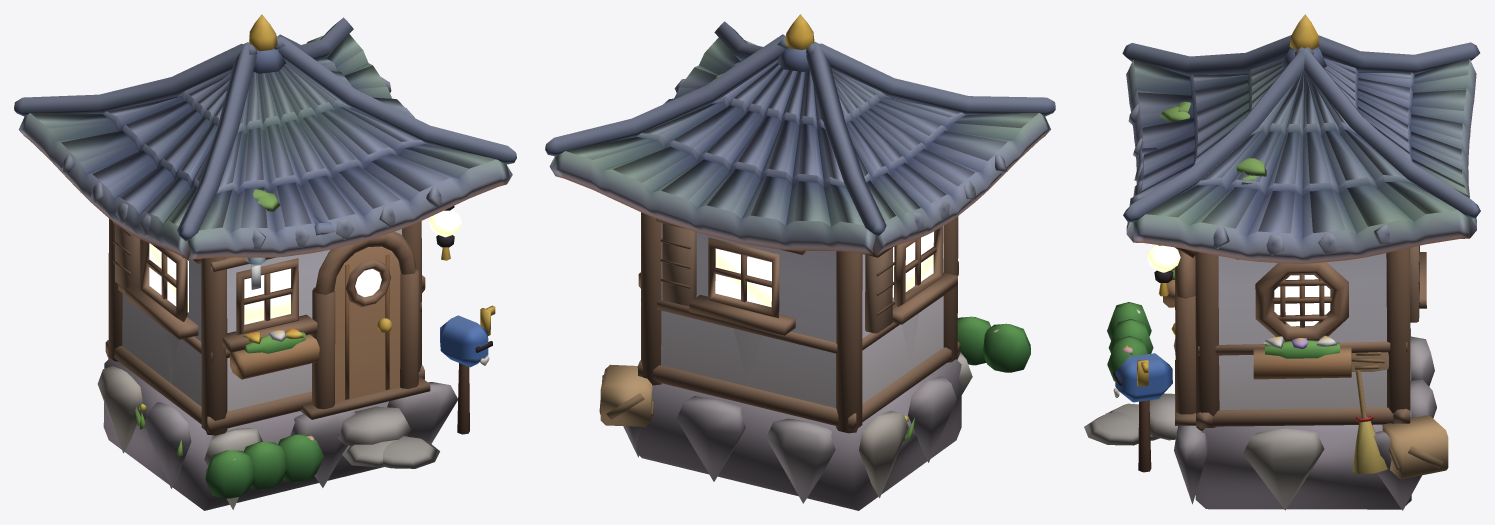
File: home-1-v3.glb
3 renders of one model, left to right at view 1: azimuth 30°, elevation 25°; view 2: azimuth 150°, elevation 25°; view 3: azimuth 270°, elevation 25°, orthographic.
Visible parts, largest first — view 1: home, window_glow; view 2: home, window_glow; view 3: home, window_glow.
Boxes of the visible parts, bbox=[...] form: home: bbox=[14, 14, 516, 510]; window_glow: bbox=[149, 209, 461, 324]; home: bbox=[545, 14, 1055, 510]; window_glow: bbox=[715, 231, 933, 307]; home: bbox=[1084, 14, 1480, 510]; window_glow: bbox=[1147, 245, 1330, 326].
Bounding box in the file's own units: 2.36 × 2.88 × 2.35.
